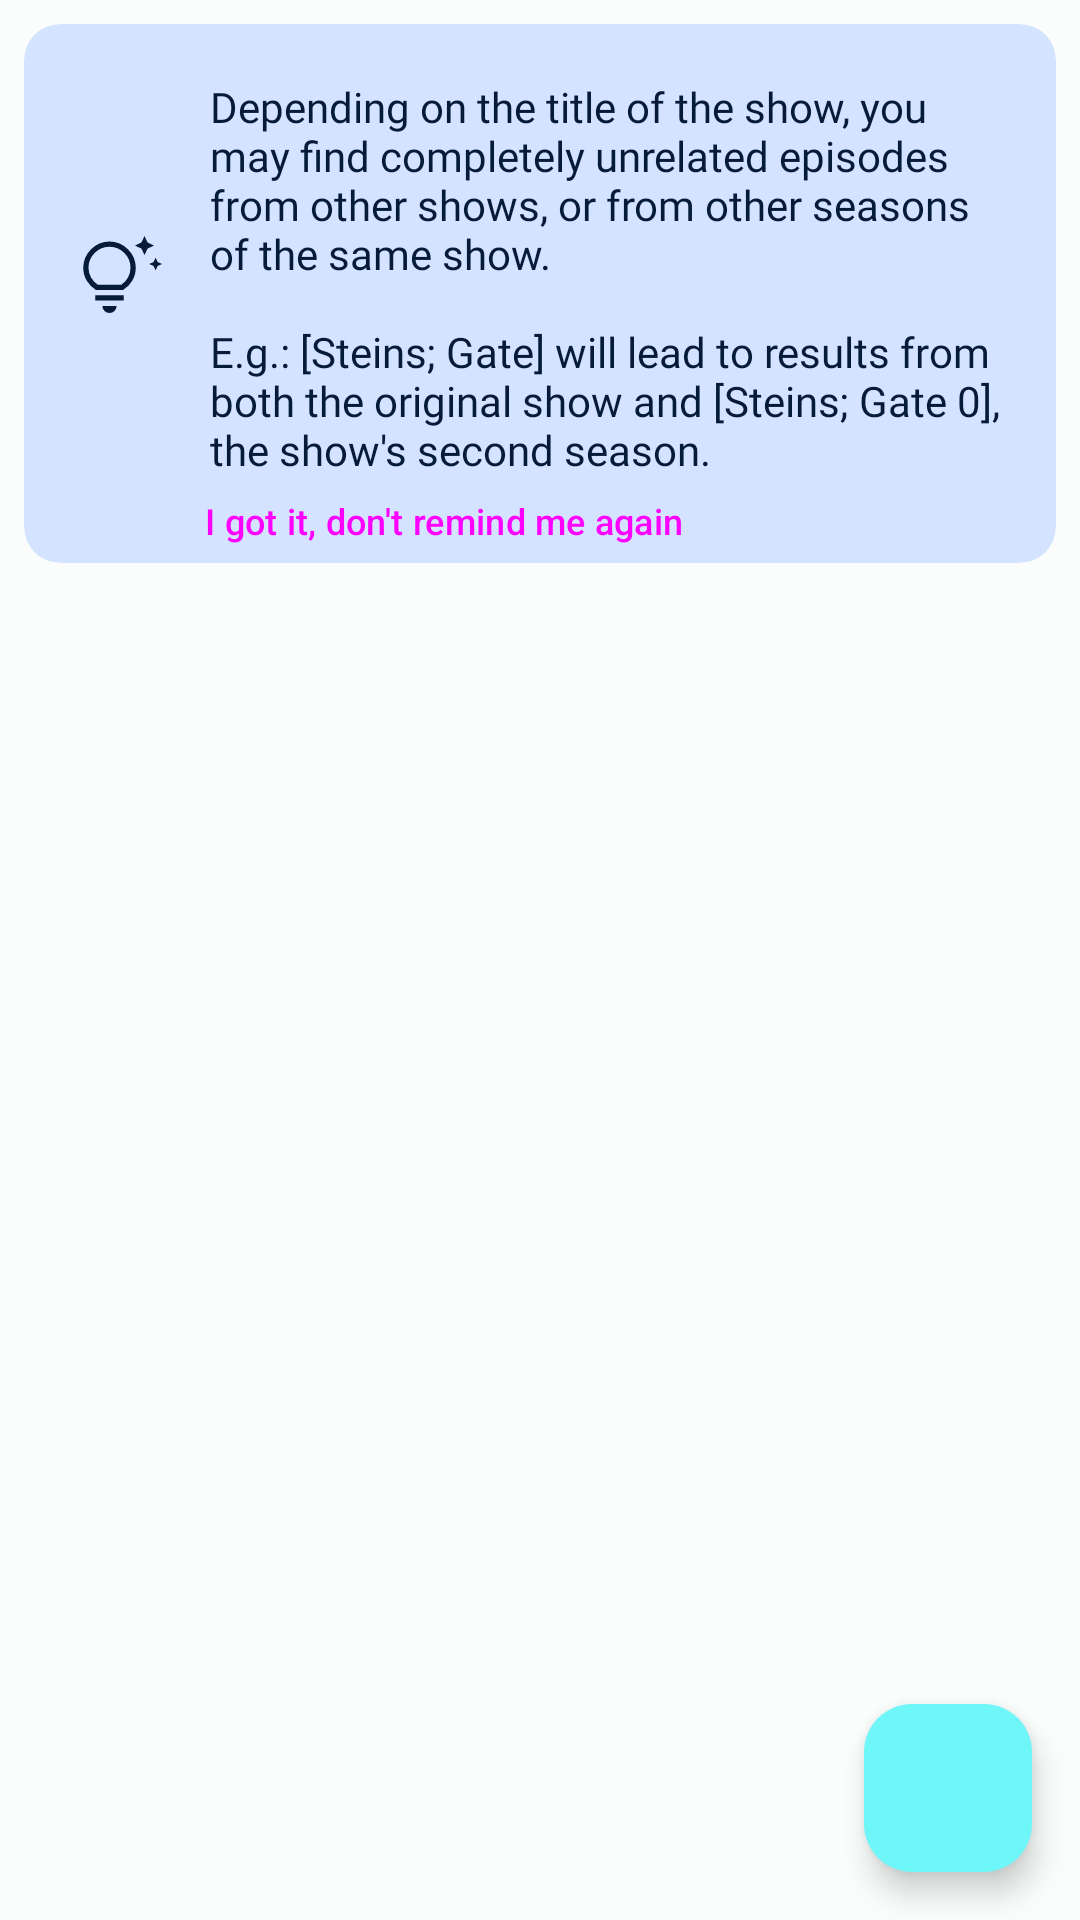

Icon click points for this 1080 x 1920 phone screenshot, format (x,y):
Tip icon: (122,274)
